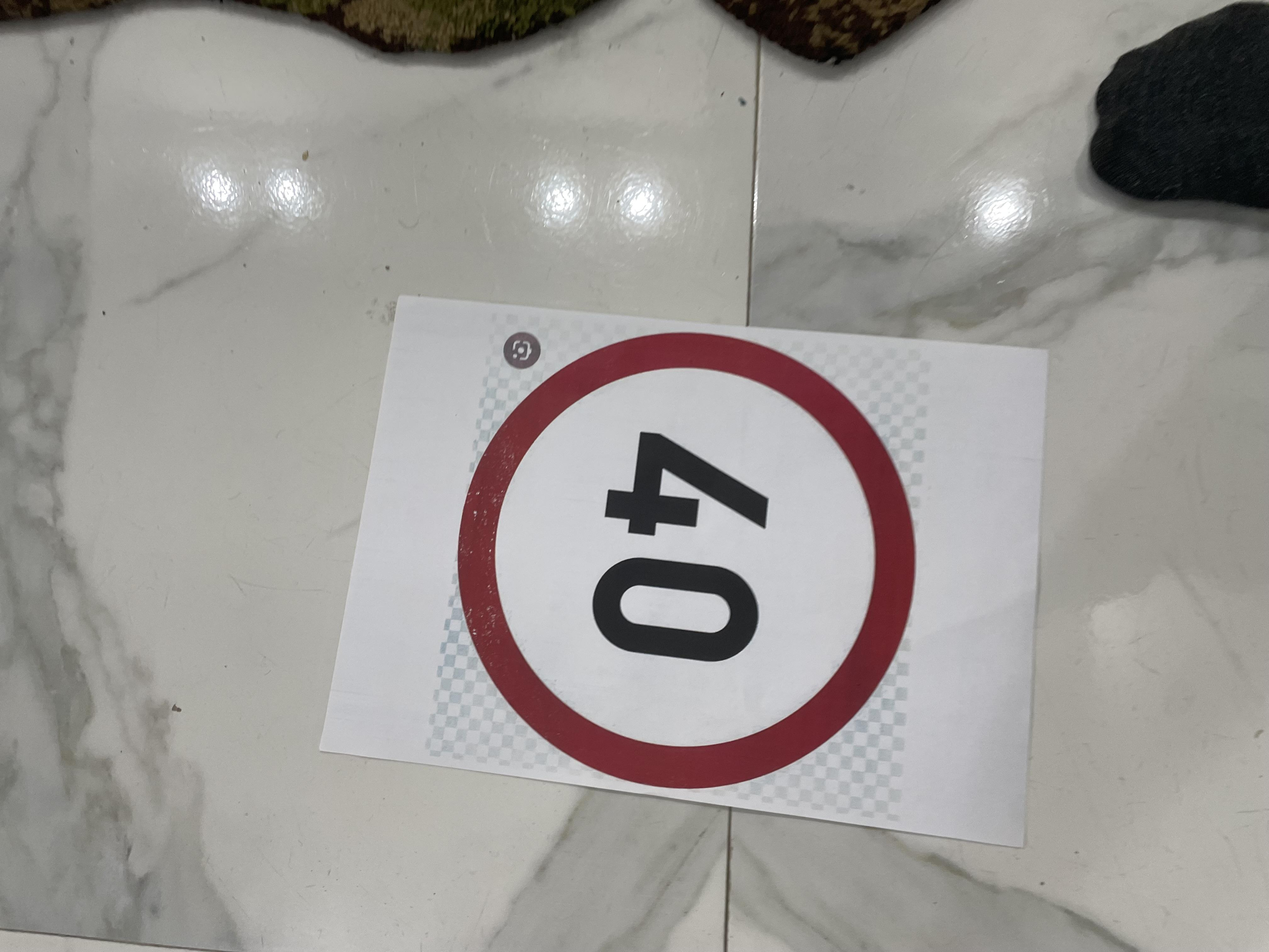40-Speed: (211, 340, 831, 687)
